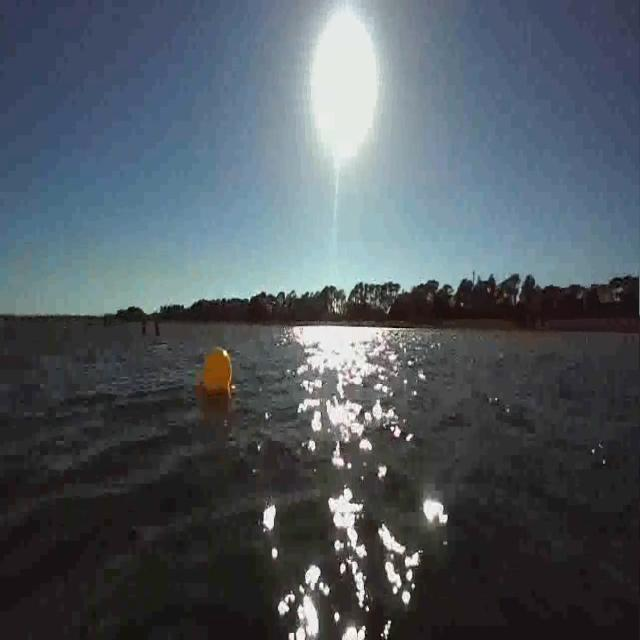yellow-buoy: (202, 345, 234, 397)
